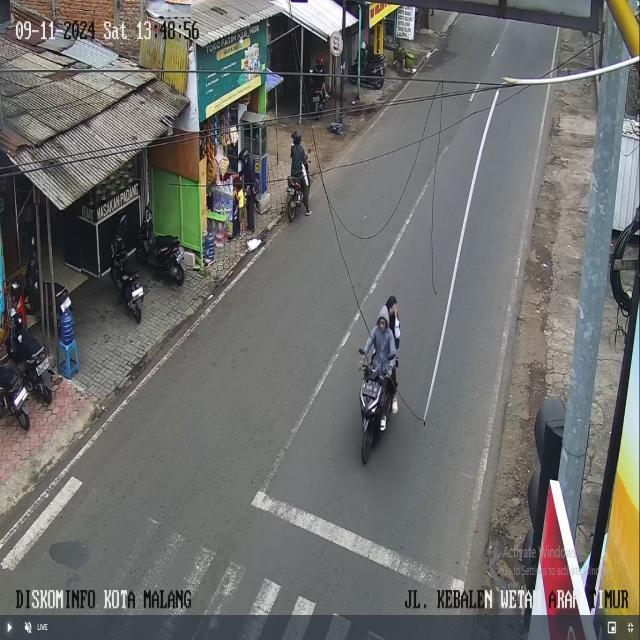Helmet: (291, 131, 301, 143), (316, 55, 323, 64)
Number Plate: (13, 387, 27, 408), (36, 357, 49, 376), (363, 381, 378, 397), (60, 296, 70, 312), (132, 287, 143, 299), (177, 248, 184, 261), (312, 96, 319, 102)
